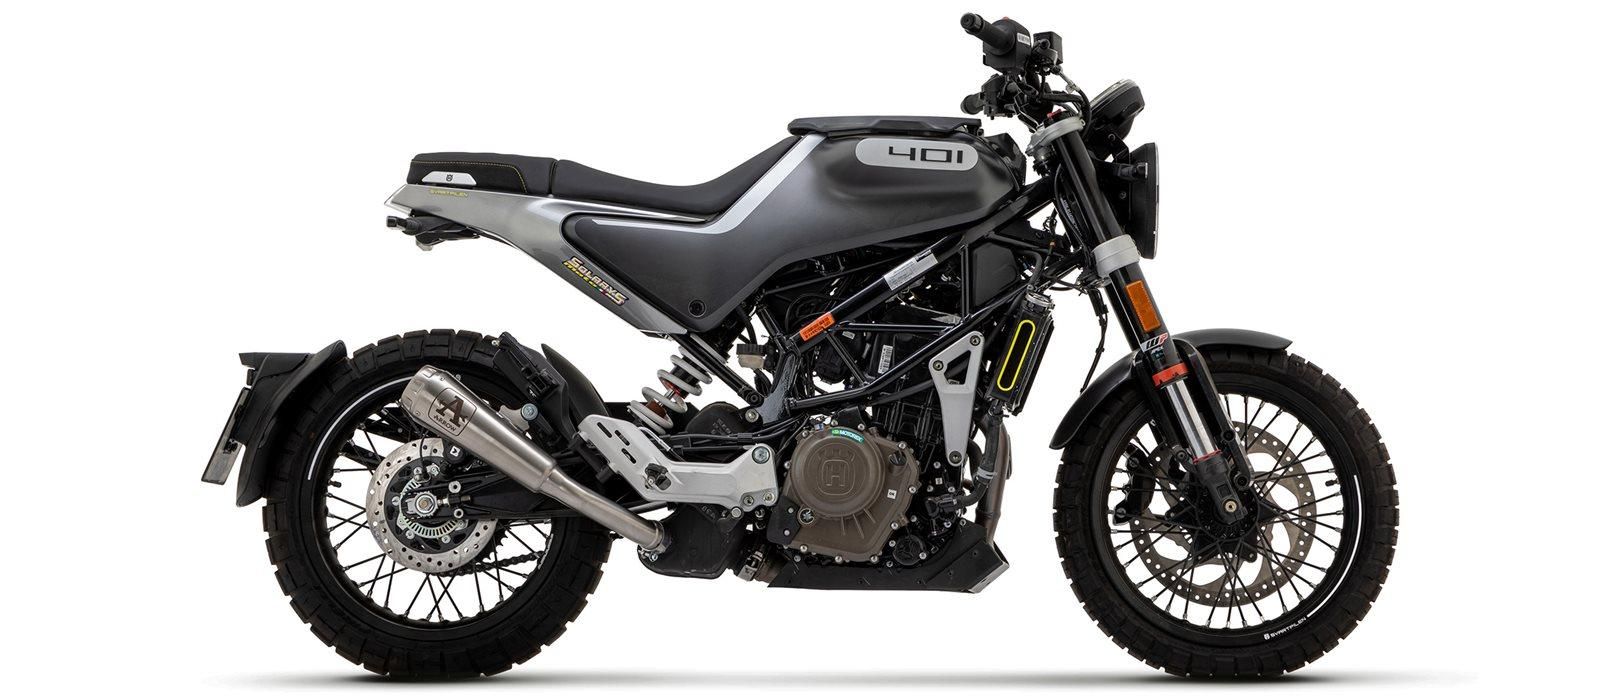engine-chasis: (578, 195, 1031, 594), (626, 344, 717, 436), (690, 296, 758, 366)
exhaust: (399, 364, 795, 585), (973, 420, 1012, 551), (972, 396, 989, 438), (966, 437, 983, 478)
frontside: (958, 108, 1293, 522)
handlebar: (959, 11, 1146, 164)
motorbike: (201, 11, 1400, 677)
rearside: (384, 184, 810, 468), (491, 331, 680, 514), (200, 339, 348, 508), (401, 473, 587, 523)
seat: (406, 135, 805, 215)
tank: (562, 115, 1027, 333)
wheel: (261, 328, 613, 681), (1052, 345, 1400, 681), (1048, 280, 1109, 395), (431, 550, 545, 579), (610, 533, 624, 542)
